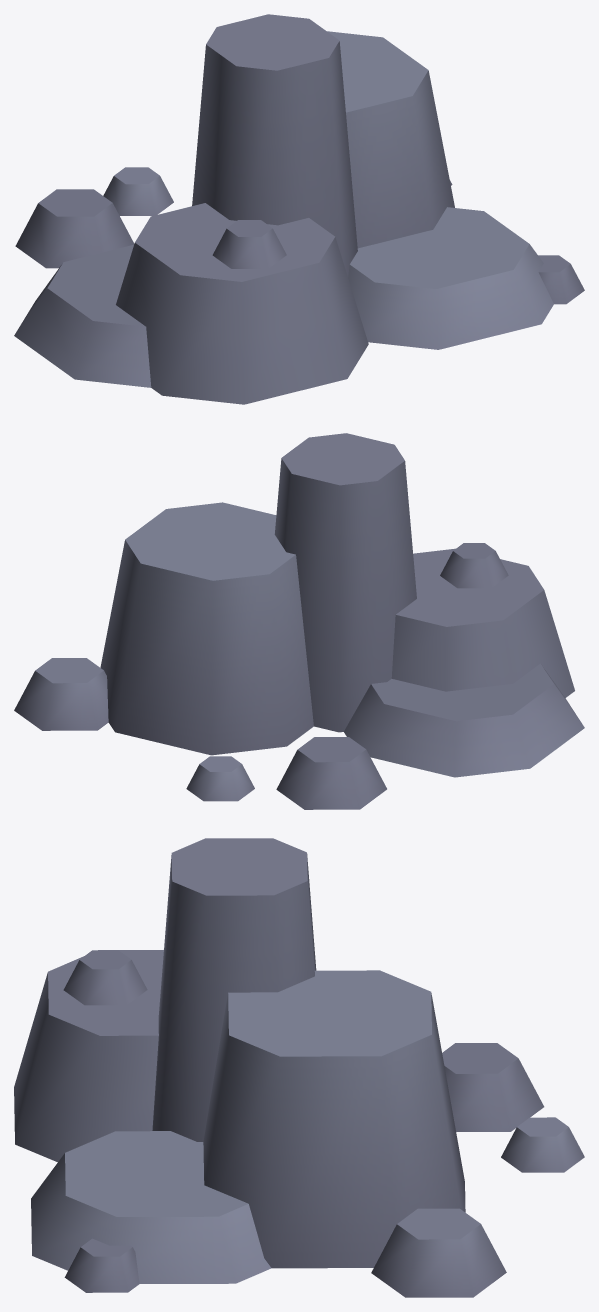
File: stones.012_lev5.glb
3 renders of one model, top to bottom at view 1: azimuth 30°, elevation 25°; view 2: azimuth 150°, elevation 25°; view 3: azimuth 270°, elevation 25°, orthographic. The views are drawn at different scales.
Visible parts, largest first — view 1: stones.012_lev5; view 2: stones.012_lev5; view 3: stones.012_lev5.
Boxes of the visible parts, x1,y1,x2,y2 form: stones.012_lev5: [14, 14, 584, 404]; stones.012_lev5: [14, 433, 584, 809]; stones.012_lev5: [14, 838, 584, 1297].
Size of the model in its own units: 3.57 by 1.82 by 3.23.
1 material, 1 textured.
